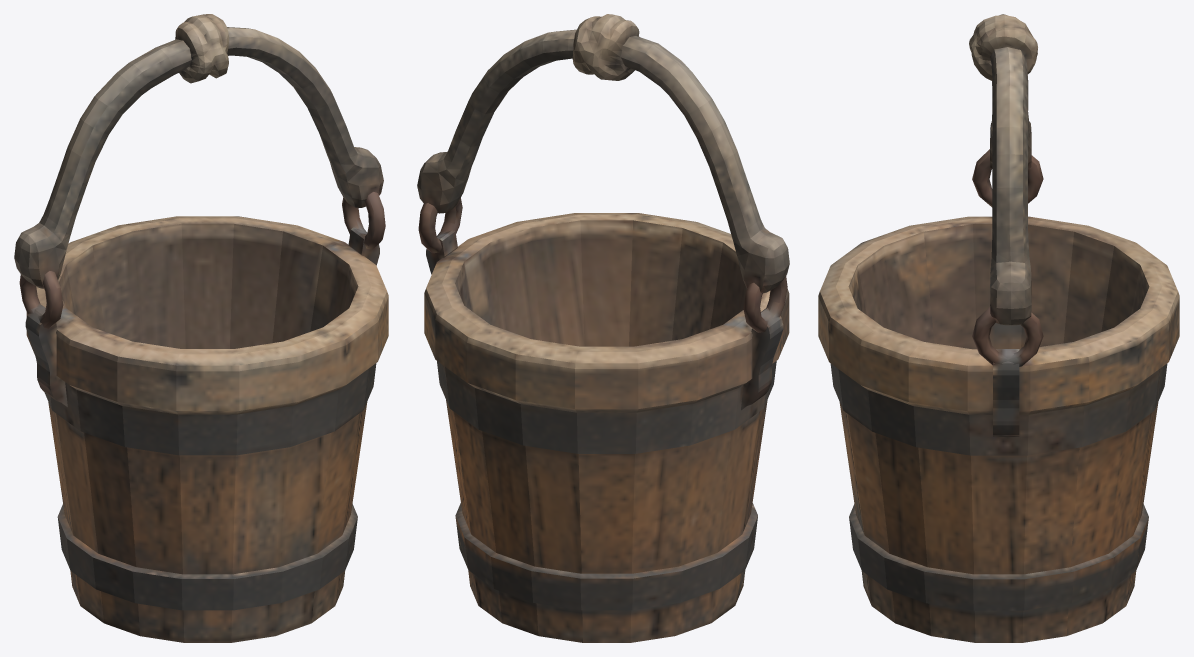
Rendered from Bucket.fbx.
3 views of the same model, side by side, from view 1: azimuth 30°, elevation 25°; view 2: azimuth 150°, elevation 25°; view 3: azimuth 270°, elevation 25° (orthographic).
Visible parts, largest first — view 1: Bucket_Low; view 2: Bucket_Low; view 3: Bucket_Low.
Boxes of the visible parts, box(x1,y1,x2,y2) form: Bucket_Low: box(14, 14, 388, 642); Bucket_Low: box(417, 14, 789, 642); Bucket_Low: box(818, 14, 1179, 642).
Size of the model in its own units: 0.3781 by 0.5691 by 0.329.
